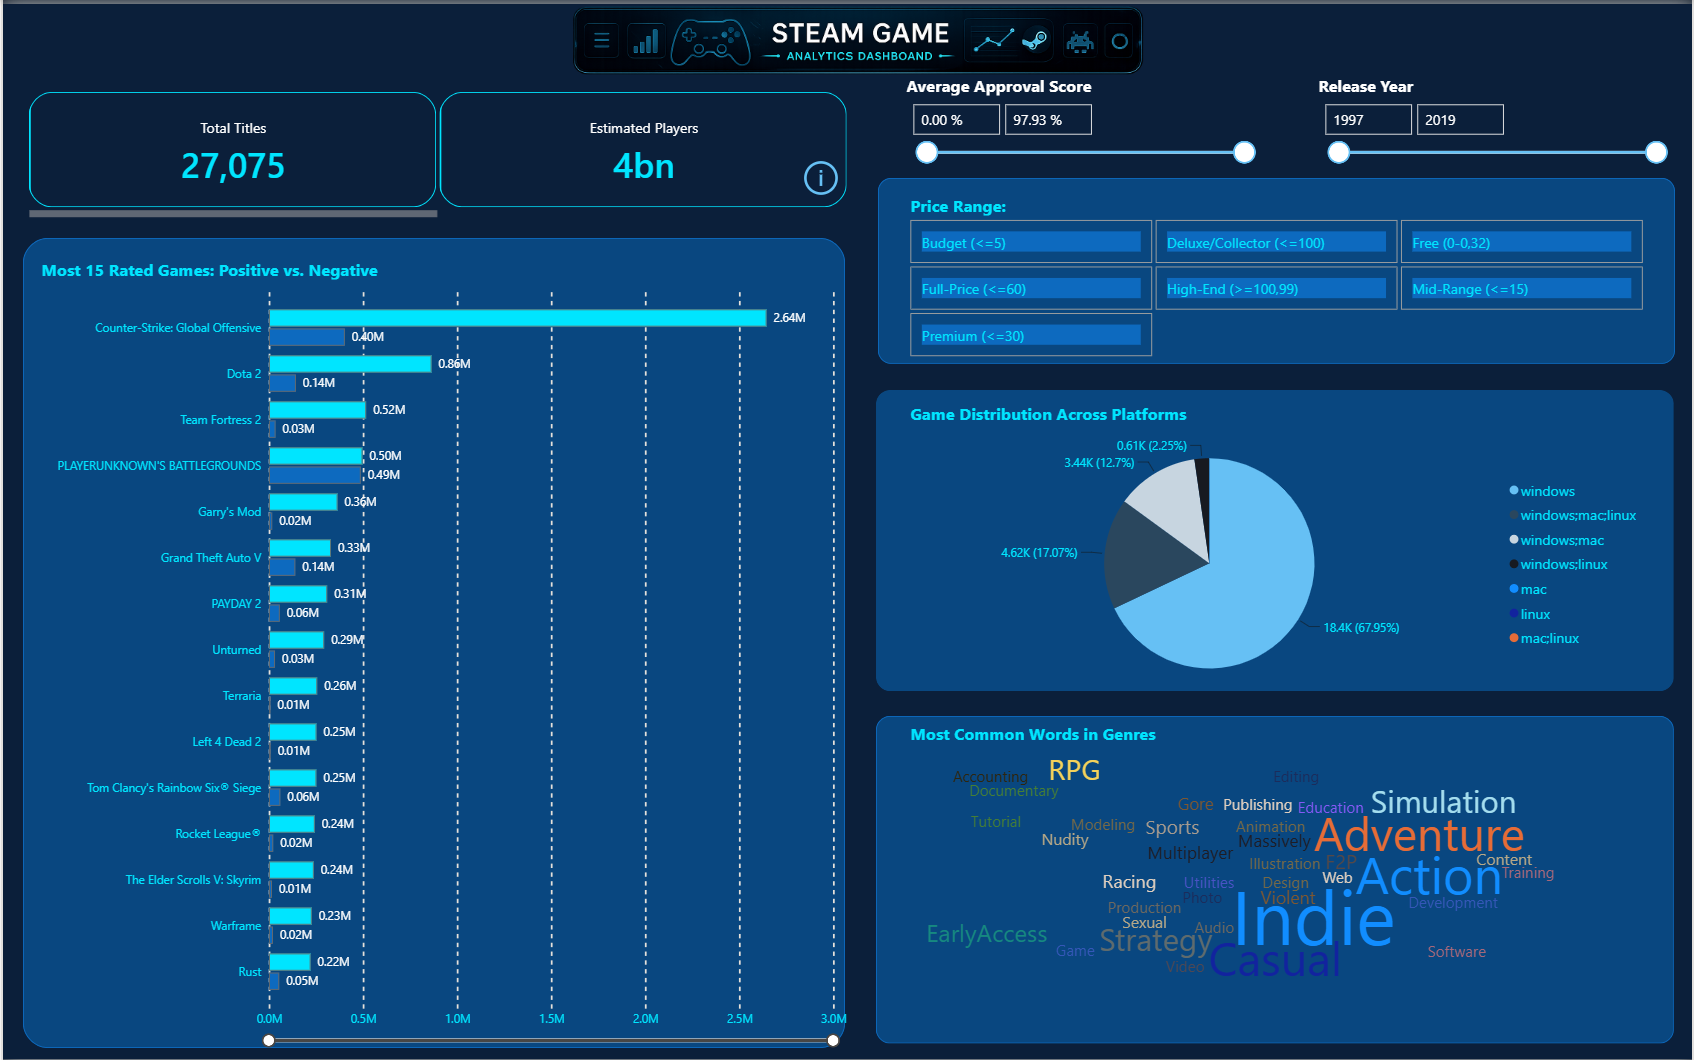

What the dashboard file says about the page in this screenshot:
{"tool":"powerbi","page":{"name":"Executive Summary","canvas":[1920,1200],"ordinal":0},"visuals":[{"type":"shape","box":[992.5,810,907.5,372.5],"z":0},{"type":"shape","box":[992.5,440,907.5,342.5],"z":1000},{"type":"shape","box":[993.3,196.9,906.4,211.4],"z":2000},{"type":"shape","box":[22.7,266.2,935,921.3],"z":4000},{"type":"clusteredBarChart","title":"Most 15 Rated Games: Positive vs. Negative","fields":{"Category":["steam.name"],"Y":["Sum(steam.positive_ratings)","Sum(steam.negative_ratings)"]},"box":[38.7,288.9,925.9,900.9],"z":5000},{"type":"pieChart","title":"Game Distribution Across Platforms","fields":{"Y":["CountNonNull(steam.appid)"],"Category":["steam.platforms"]},"box":[1025,452.5,845,342.5],"z":6000},{"type":"slicer","title":"Release Year","fields":{"Values":["steam_release_date.release_date.Variation.Date Hierarchy.Year"]},"box":[1489.8,79.4,410.7,118.4],"z":7000},{"type":"WordCloud1447959067750","title":"Most Common Words in Genres","fields":{"Category":["steam.genres"],"Values":["CountNonNull(steam.appid)"]},"box":[1025.2,816.7,845.6,362],"z":8000},{"type":"advancedSlicerVisual","title":"Price Range:","fields":{"Values":["steam.price_range_label"]},"box":[1025.2,217.2,845.6,191.1],"z":9000},{"type":"cardVisual","fields":{"Data":["CountNonNull(steam.appid)","Sum(steam.median_owners)","Avg(steam.average_playtime)","steam.AverageRatingFiltered"]},"box":[24.3,95.7,940,154.3],"z":10000},{"type":"slicer","title":"Average Approval Score","fields":{"Values":["steam.average_ratings"]},"box":[1022.2,79.4,410.7,118.4],"z":11000},{"type":"actionButton","box":[905.9,172.7,50,50],"z":12000},{"type":"image","box":[22,0,1898,80],"z":12001}]}

Visuals, with their boxes in screenshot pixels (x1, y1, x2, y2), scaled from the page's 1920x1200 canvas onto the 1694x1060 screenshot:
shape: {"left": 876, "top": 716, "right": 1676, "bottom": 1045}
shape: {"left": 876, "top": 389, "right": 1676, "bottom": 691}
shape: {"left": 876, "top": 174, "right": 1676, "bottom": 361}
shape: {"left": 20, "top": 235, "right": 845, "bottom": 1049}
"Most 15 Rated Games: Positive vs. Negative" clusteredBarChart: {"left": 34, "top": 255, "right": 851, "bottom": 1051}
"Game Distribution Across Platforms" pieChart: {"left": 904, "top": 400, "right": 1650, "bottom": 702}
"Release Year" slicer: {"left": 1314, "top": 70, "right": 1677, "bottom": 175}
"Most Common Words in Genres" WordCloud1447959067750: {"left": 905, "top": 721, "right": 1651, "bottom": 1041}
"Price Range:" advancedSlicerVisual: {"left": 905, "top": 192, "right": 1651, "bottom": 361}
cardVisual - CountNonNull(steam.appid) x Sum(steam.median_owners): {"left": 21, "top": 85, "right": 851, "bottom": 221}
"Average Approval Score" slicer: {"left": 902, "top": 70, "right": 1264, "bottom": 175}
actionButton: {"left": 799, "top": 153, "right": 843, "bottom": 197}
image: {"left": 19, "top": 0, "right": 1693, "bottom": 71}
